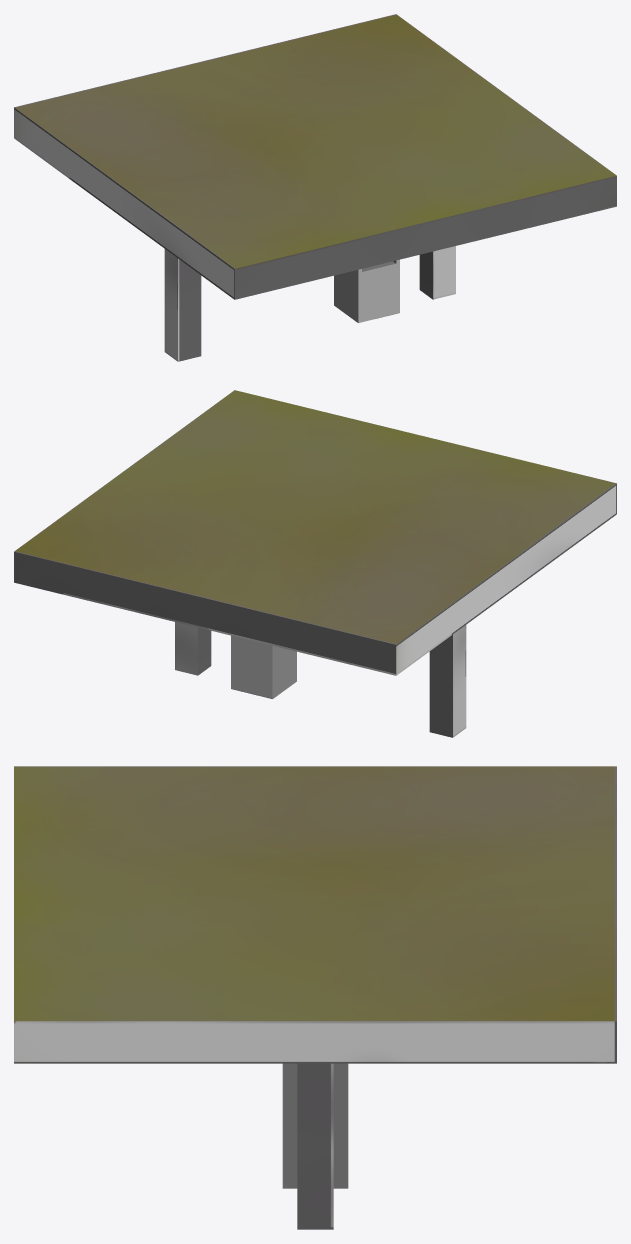
The model's file is GGas.glb.
3 renders of one model, top to bottom at view 1: azimuth 30°, elevation 25°; view 2: azimuth 150°, elevation 25°; view 3: azimuth 270°, elevation 25°, orthographic. The views are drawn at different scales.
Visible parts, largest first — view 1: Plane.030, Plane.033; view 2: Plane.030, Plane.033; view 3: Plane.030, Plane.033.
Boxes of the visible parts, x1=… form: Plane.030: x1=14, y1=14, x2=616, y2=361; Plane.033: x1=334, y1=259, x2=399, y2=322; Plane.030: x1=14, y1=390, x2=616, y2=737; Plane.033: x1=231, y1=635, x2=296, y2=698; Plane.030: x1=14, y1=766, x2=616, y2=1229; Plane.033: x1=282, y1=1063, x2=348, y2=1188.
Size of the model in its own units: 37.5 by 16.91 by 37.5.
2 materials, 2 textured.
